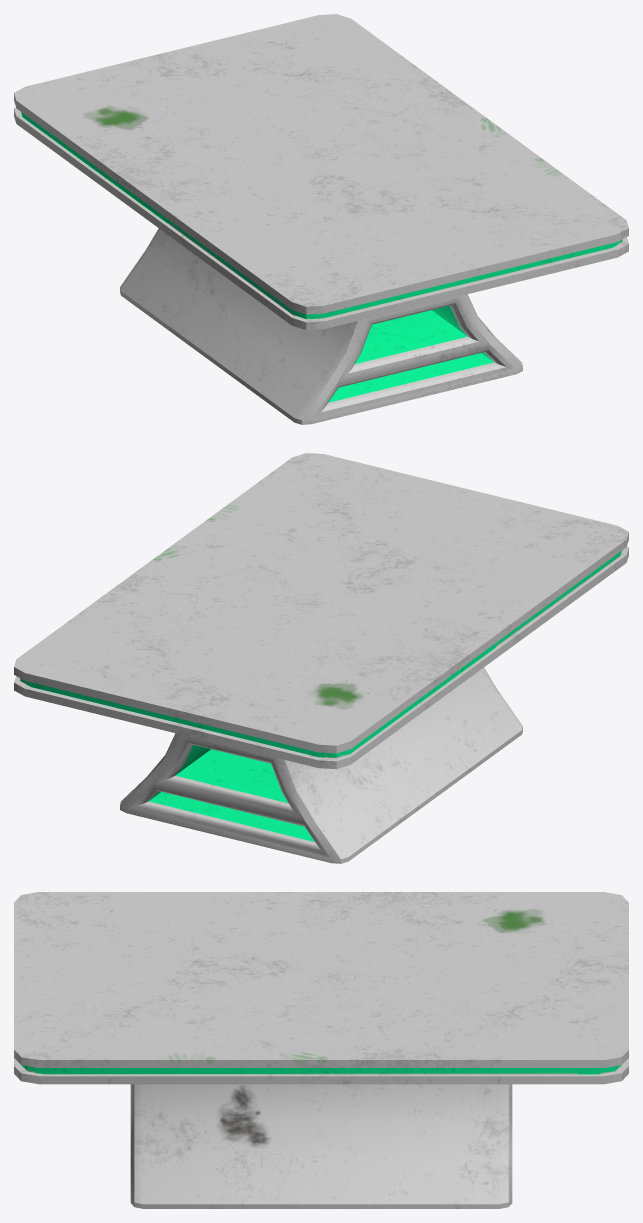
The model's file is PROP_011_DiningTable.fbx.
The picture shows the model from 3 angles, top to bottom: view 1: azimuth 30°, elevation 25°; view 2: azimuth 150°, elevation 25°; view 3: azimuth 270°, elevation 25°; orthographic projection. The views are drawn at different scales.
Parts seen in each view (by area): view 1: Cube_006; view 2: Cube_006; view 3: Cube_006.
Part boxes in pixels (left/top/right/bottom): Cube_006: left=14, top=14, right=628, bottom=424; Cube_006: left=14, top=453, right=628, bottom=863; Cube_006: left=14, top=892, right=628, bottom=1208.
Size of the model in its own units: 2.06 by 1 by 3.18.
Materials: 1 (1 with a texture image).
